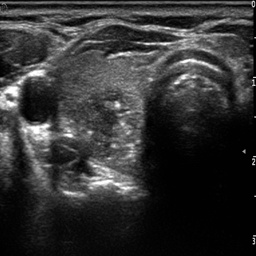mass: (72, 90, 143, 160)
